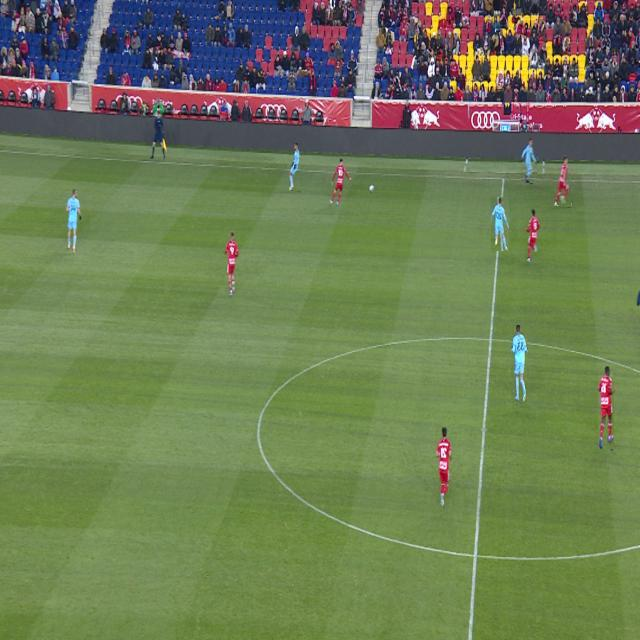football: (369, 184, 375, 193)
player: (436, 427, 452, 507), (599, 366, 614, 449), (512, 326, 527, 402), (66, 189, 82, 253), (491, 197, 509, 251), (330, 159, 351, 205), (225, 232, 239, 296), (555, 156, 571, 207), (525, 209, 540, 262), (522, 139, 537, 183), (289, 143, 300, 191)
